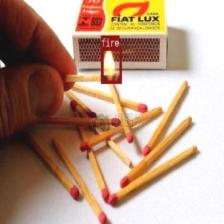fire: (101, 47, 121, 83)
